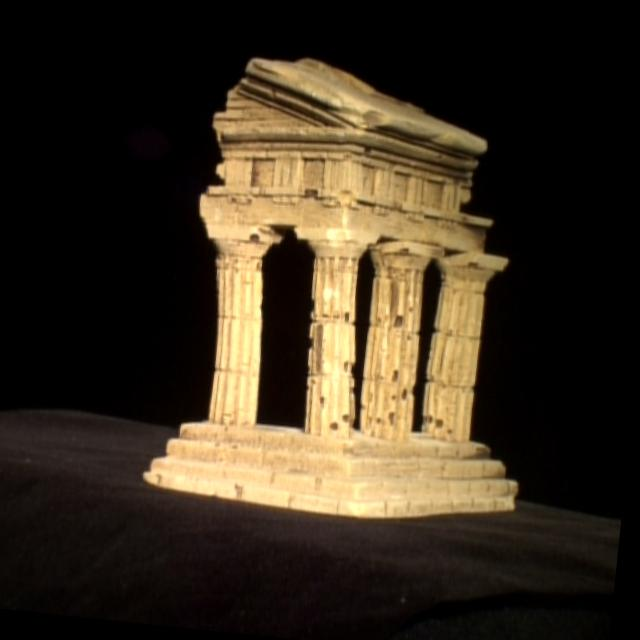Instance-Segmentation: (144, 58, 516, 517)
